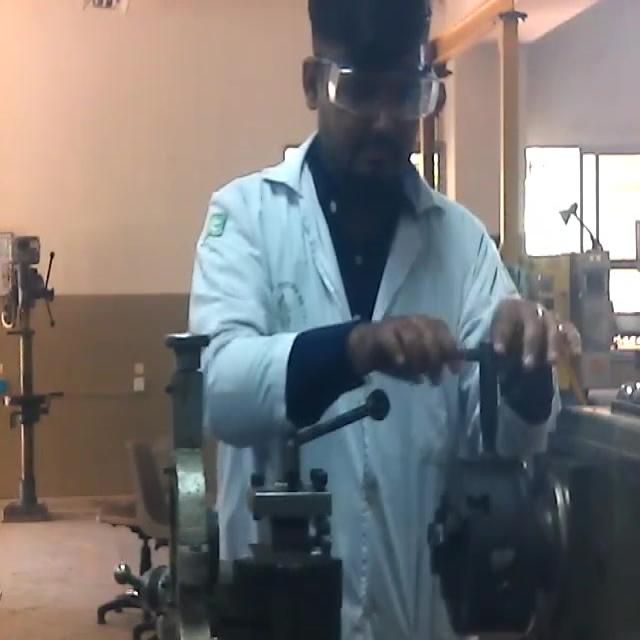googles: (326, 58, 442, 122)
labcoat: (190, 121, 561, 640)
